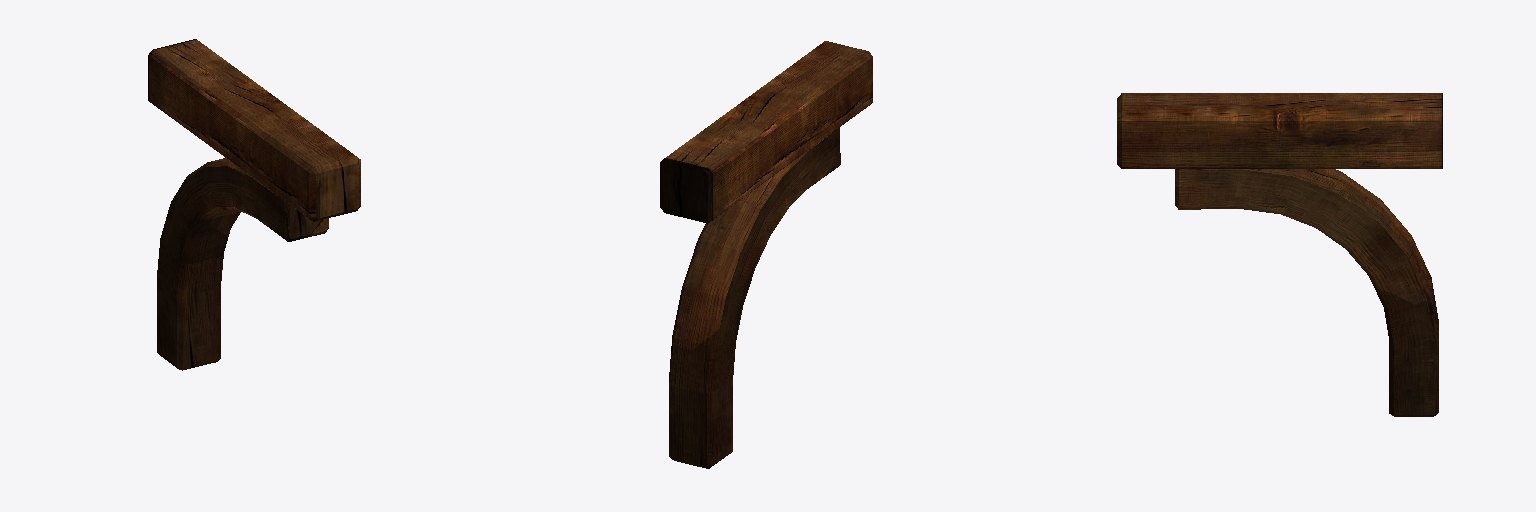
The picture shows the model from 3 angles: view 1: azimuth 30°, elevation 25°; view 2: azimuth 150°, elevation 25°; view 3: azimuth 270°, elevation 25°; orthographic projection.
Visible parts, largest first — view 1: Support_Wood_003; view 2: Support_Wood_003; view 3: Support_Wood_003.
Part boxes in pixels (x1,y1,x2,y2): Support_Wood_003: (148,39,360,370); Support_Wood_003: (660,41,872,468); Support_Wood_003: (1117,93,1442,416).
Bounding box in the file's own units: 12 × 66.74 × 65.
Materials: 1 (1 with a texture image).